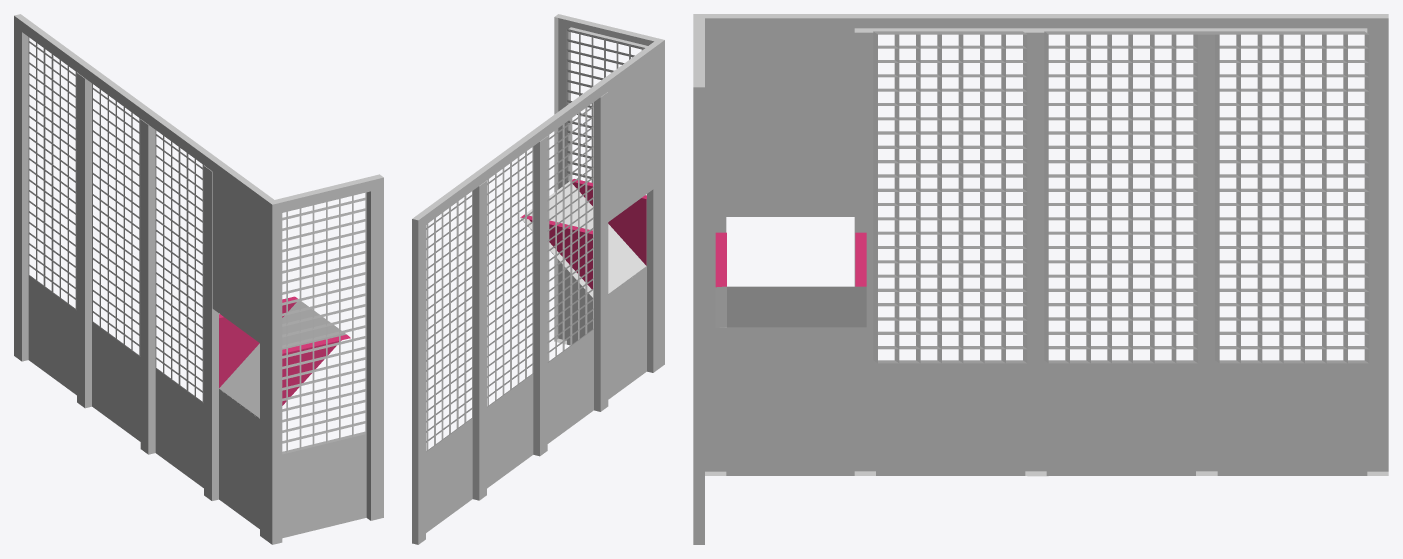
The model's file is substação.fbx.
The picture shows the model from 3 angles, left to right: view 1: azimuth 30°, elevation 25°; view 2: azimuth 150°, elevation 25°; view 3: azimuth 270°, elevation 25°; orthographic projection. The views are drawn at different scales.
Parts seen in each view (by area): view 1: Cube; view 2: Cube; view 3: Cube.
Part boxes in pixels (left/top/right/bottom): Cube: left=14, top=14, right=383, bottom=544; Cube: left=412, top=14, right=664, bottom=544; Cube: left=693, top=14, right=1388, bottom=544.
Bounding box in the file's own units: 68.26 × 198 × 273.
